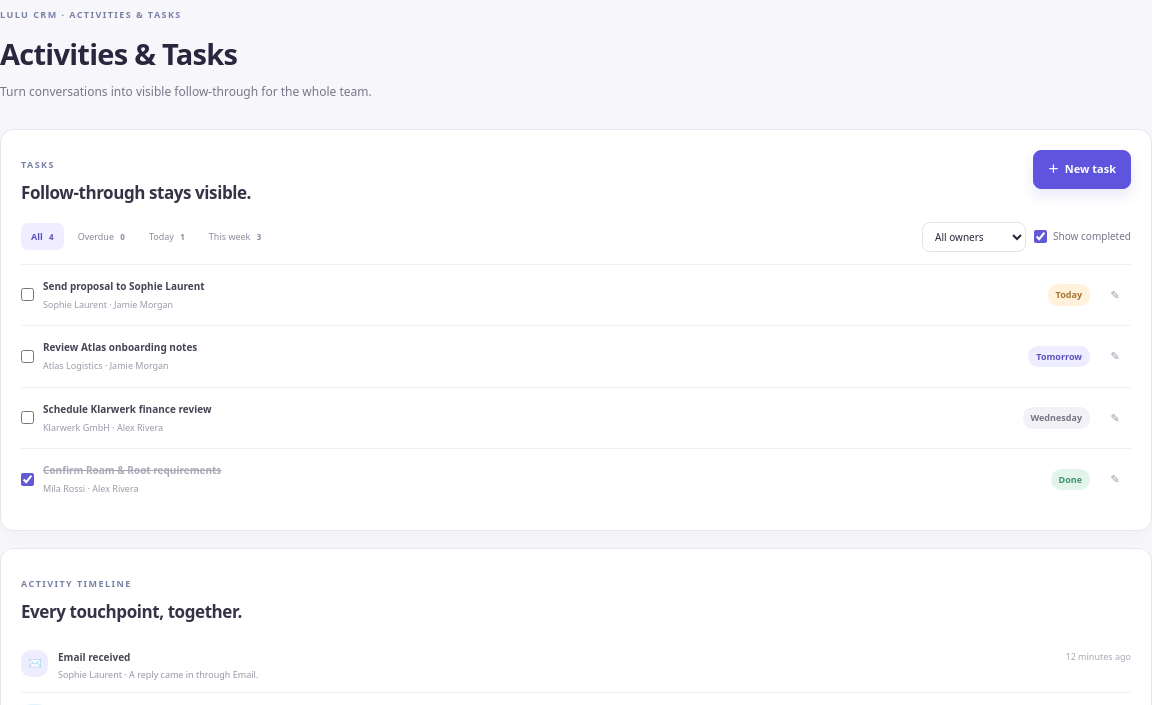
Scenario: Activities & Tasks page › edits a task
Expected: the text "Send proposal to Sophie Laurent" is shown, [43,278,205,292]
Expected: the text "Email received" is shown, [58,650,130,664]
Click the button named "Edit Review Atlas onboarding notes" at (1115, 356), box [1099,340,1131,372]
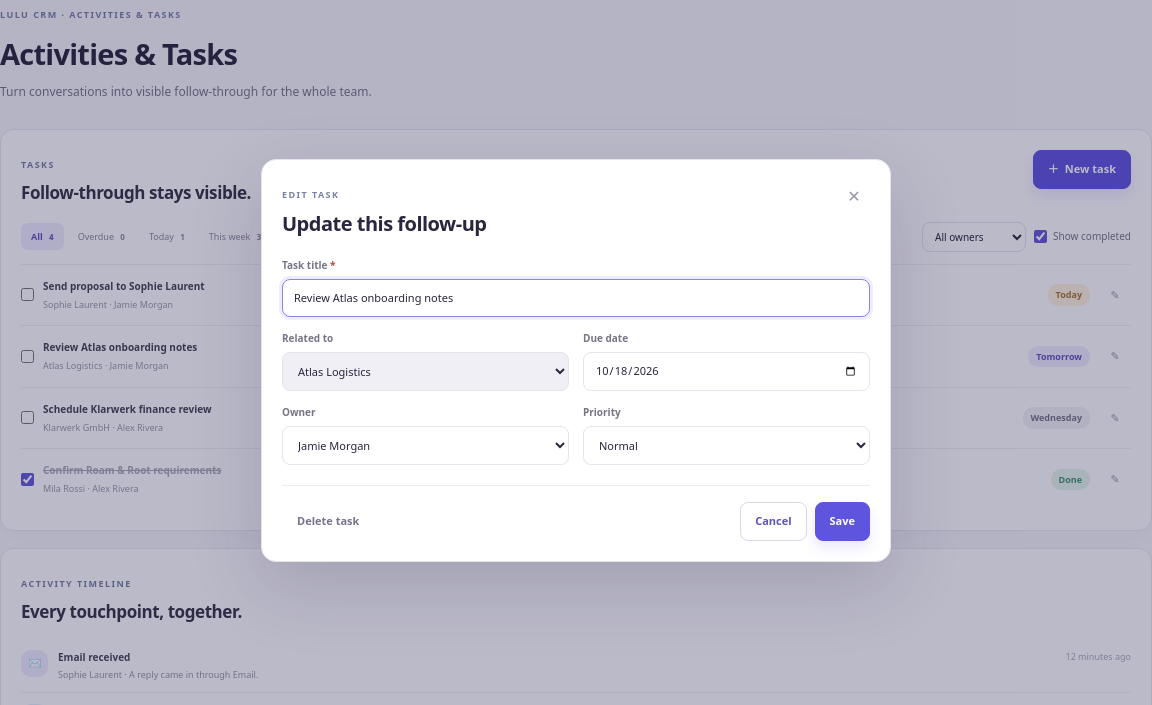
Now the dropdown labelled "Related to" is disabled, box [282,352,569,391]
Replace the text in the field labelled "Task title *" with "Review Atlas onboarding plan" at (576, 298), box [282,278,870,317]
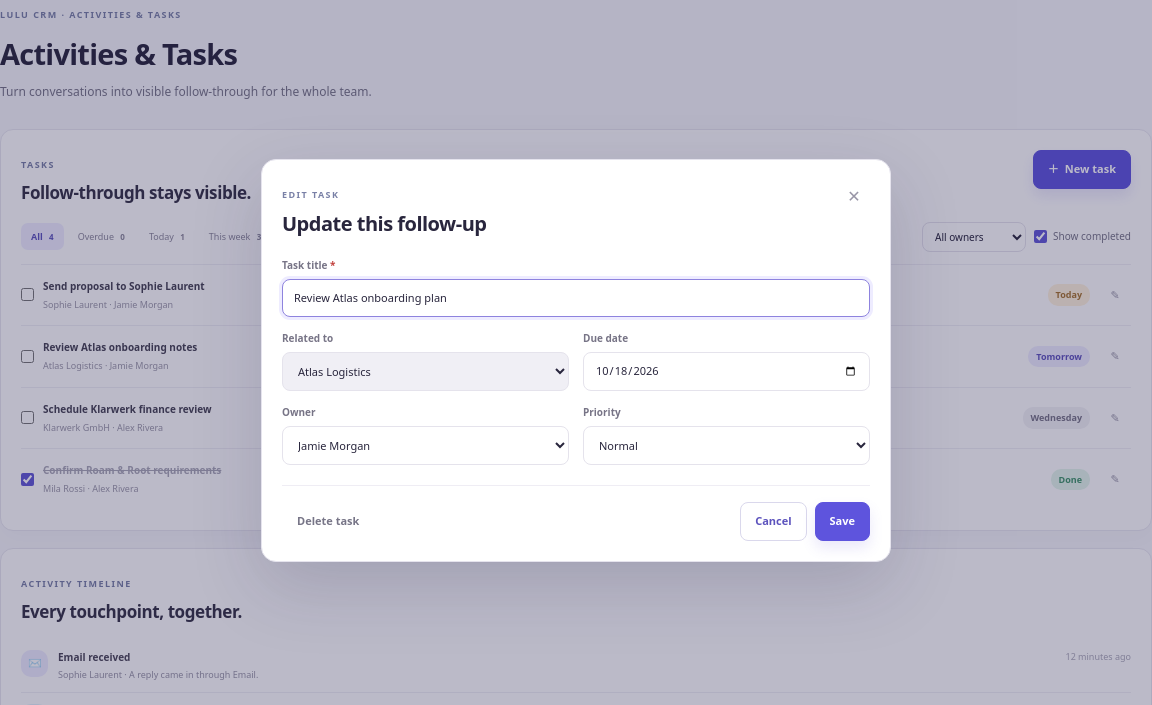
Click the button "Save" at (842, 521), box [814,502,870,540]
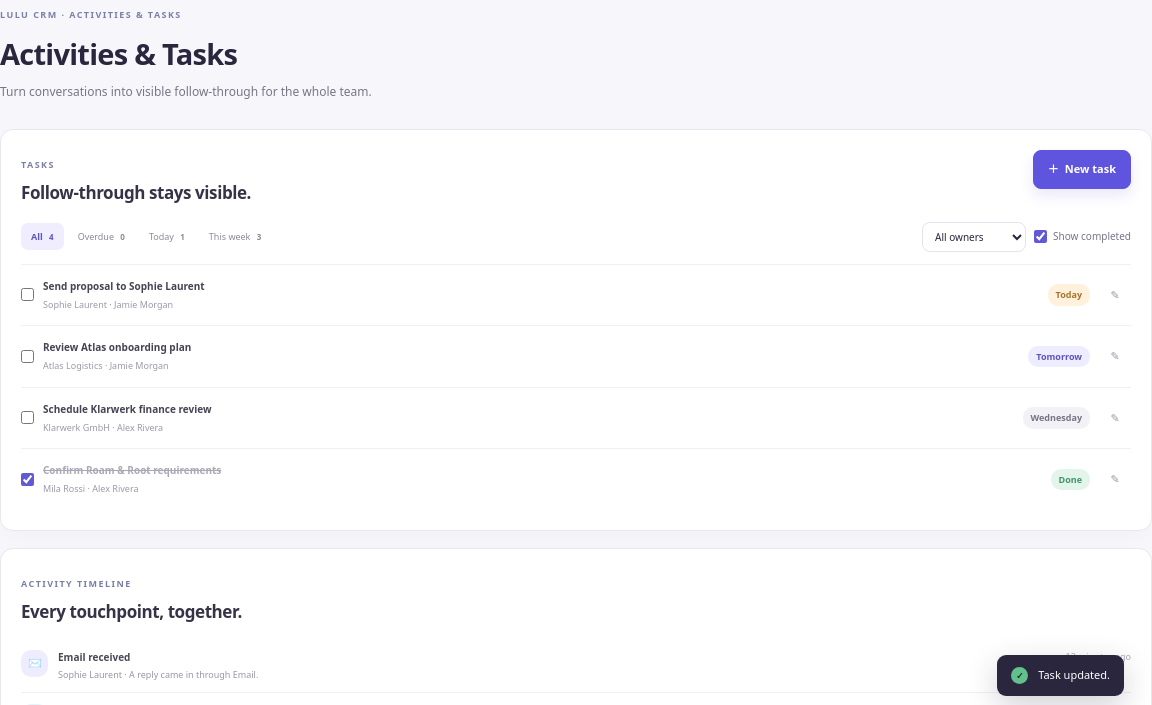
Expected: the text "Atlas Logistics · Jamie Morgan" is shown, [43,359,169,372]
Now the text "Review Atlas onboarding plan" is shown, box [43,340,191,354]
Now the text "Review Atlas onboarding notes" is gone
